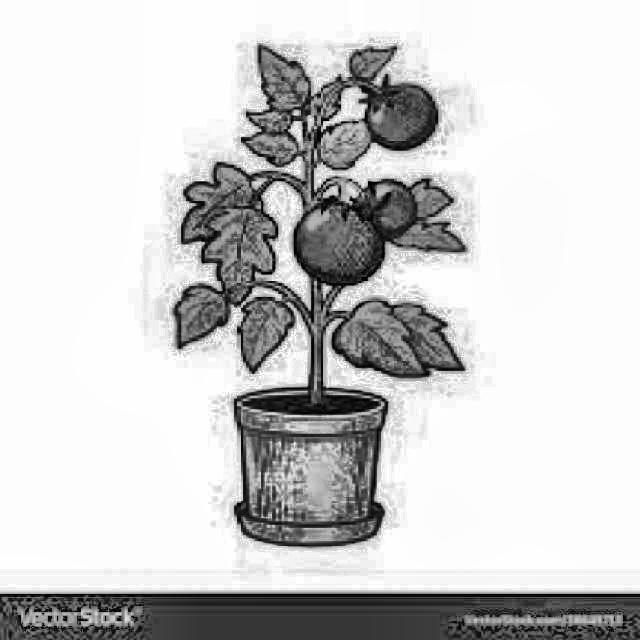plants: (148, 35, 477, 552)
